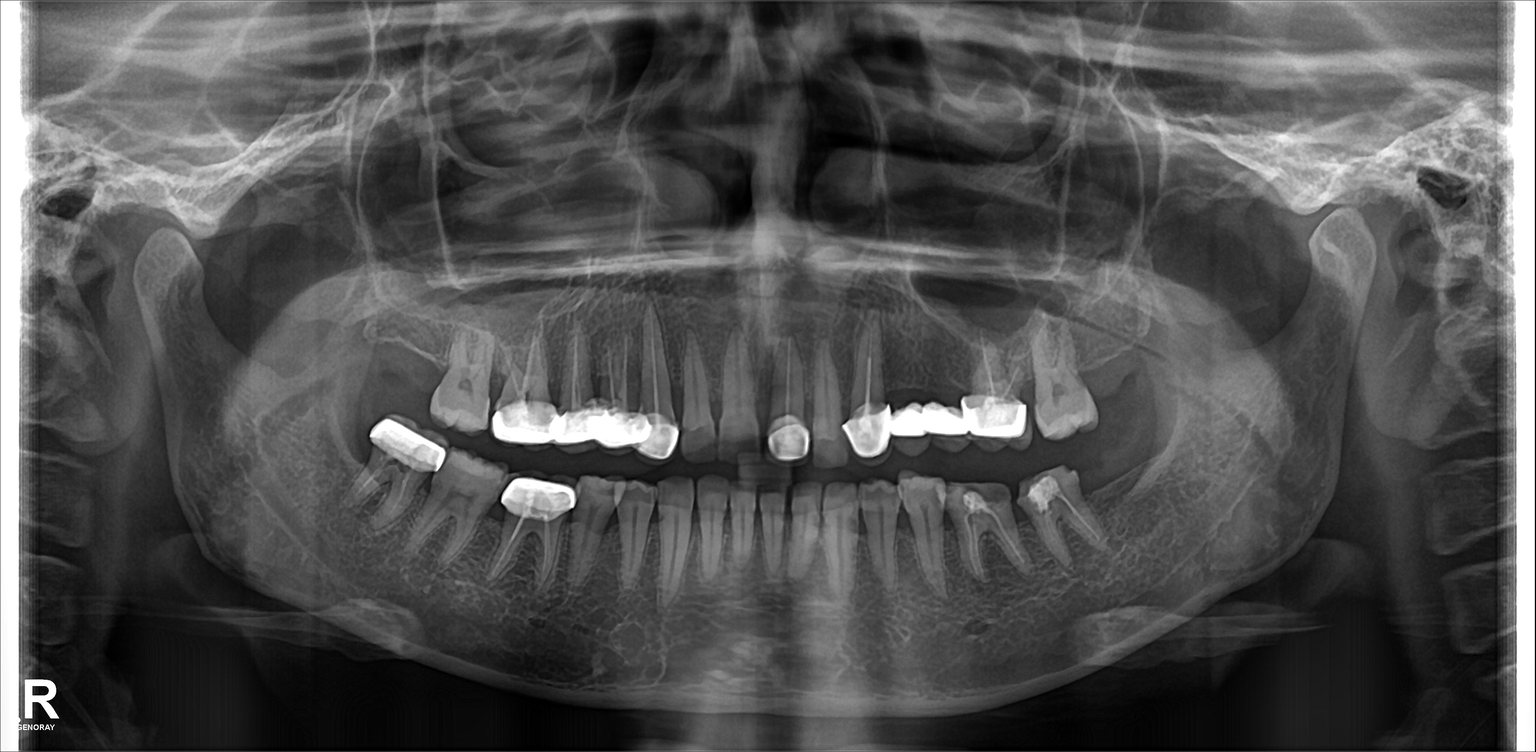Dental Caries: (730, 437, 758, 456)
Endodontically Treated Tooth: (501, 475, 571, 591), (372, 411, 441, 526), (963, 337, 1029, 436), (492, 344, 551, 441), (637, 315, 678, 454), (955, 490, 1021, 572), (849, 329, 888, 456), (886, 333, 927, 450), (1035, 473, 1091, 557), (551, 335, 594, 444), (598, 339, 636, 448), (773, 357, 806, 459), (939, 337, 964, 442)
Missing Tooth: (1089, 313, 1143, 413), (380, 326, 432, 414), (1095, 443, 1141, 532)
